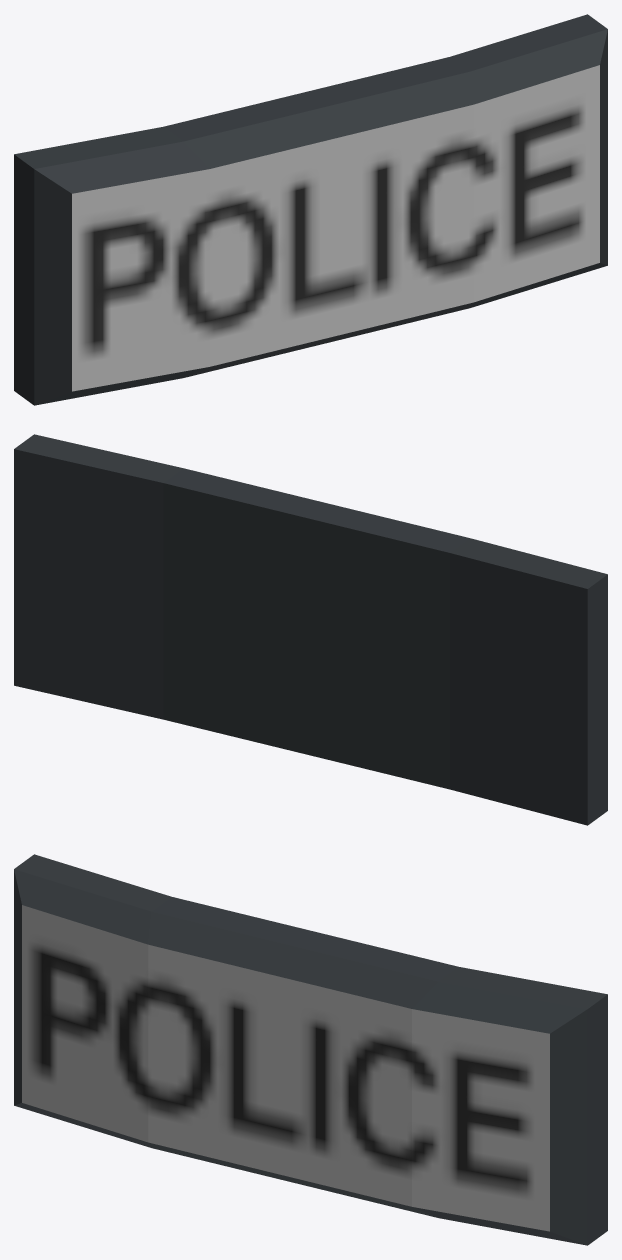
Rendered from SM_Chr_Attach_Patch_02.fbx.
3 views of the same model, one above another, from view 1: azimuth 30°, elevation 25°; view 2: azimuth 150°, elevation 25°; view 3: azimuth 330°, elevation 25° (orthographic).
Visible parts, largest first — view 1: SM_Chr_Attach_Patch_02; view 2: SM_Chr_Attach_Patch_02; view 3: SM_Chr_Attach_Patch_02.
Boxes of the visible parts, x1,y1,x2,y2 form: SM_Chr_Attach_Patch_02: [14, 14, 607, 405]; SM_Chr_Attach_Patch_02: [14, 434, 607, 825]; SM_Chr_Attach_Patch_02: [14, 854, 607, 1245].
Size of the model in its own units: 16.98 by 6.78 by 2.1.
